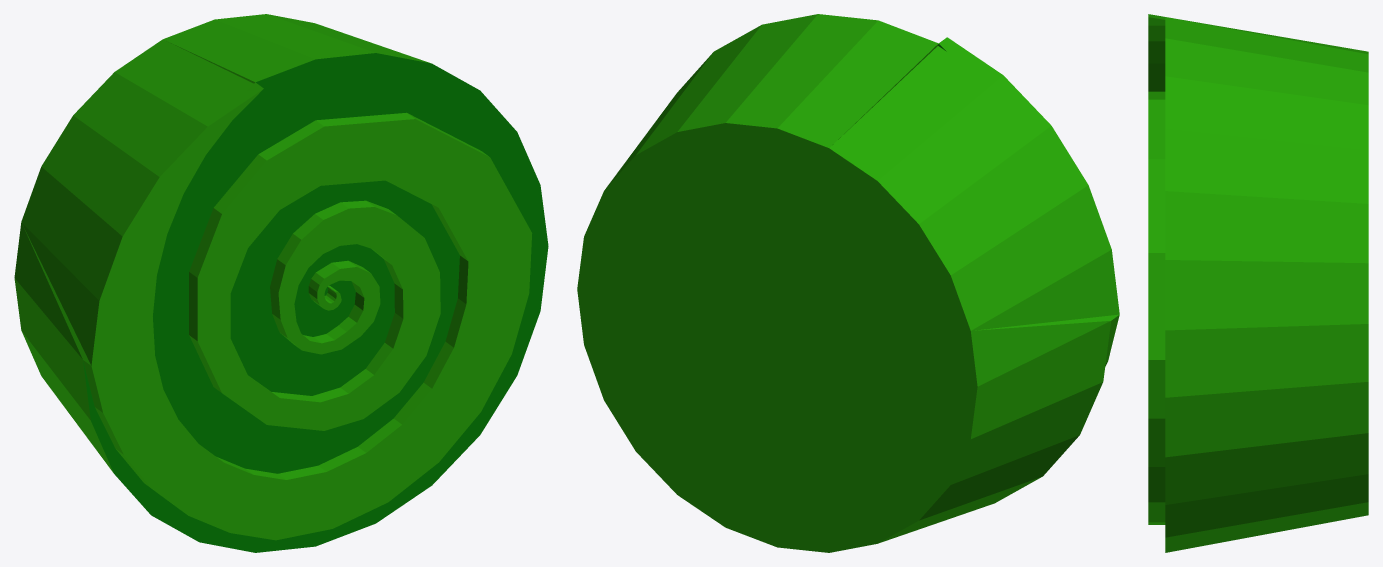
Rendered from Vegetation_Verdant_Grass_Topiary_Bush_Shrub_Circle_01.FBX.
3 views of the same model, side by side, from view 1: azimuth 30°, elevation 25°; view 2: azimuth 150°, elevation 25°; view 3: azimuth 270°, elevation 25° (orthographic).
Parts seen in each view (by area): view 1: Vegetation_Verdant_Grass_Topiary_Bush_Shrub_Circle_01; view 2: Vegetation_Verdant_Grass_Topiary_Bush_Shrub_Circle_01; view 3: Vegetation_Verdant_Grass_Topiary_Bush_Shrub_Circle_01.
Boxes of the visible parts, <box> form: Vegetation_Verdant_Grass_Topiary_Bush_Shrub_Circle_01: <box>14,14,548,552</box>; Vegetation_Verdant_Grass_Topiary_Bush_Shrub_Circle_01: <box>577,14,1119,552</box>; Vegetation_Verdant_Grass_Topiary_Bush_Shrub_Circle_01: <box>1148,14,1368,552</box>.
Size of the model in its own units: 1324 by 1324 by 540.
